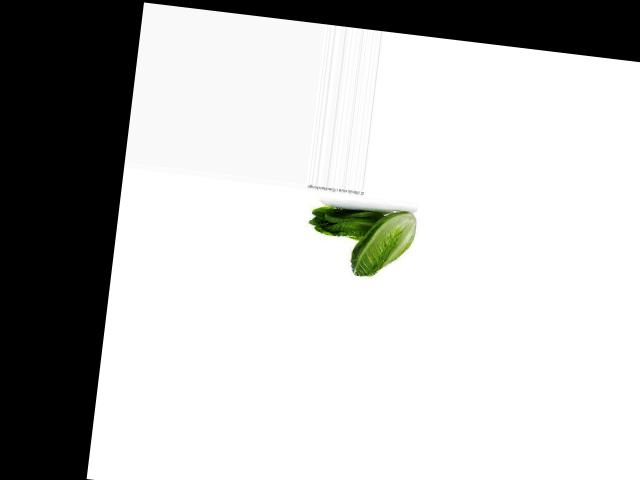lettuce: (307, 194, 385, 249)
